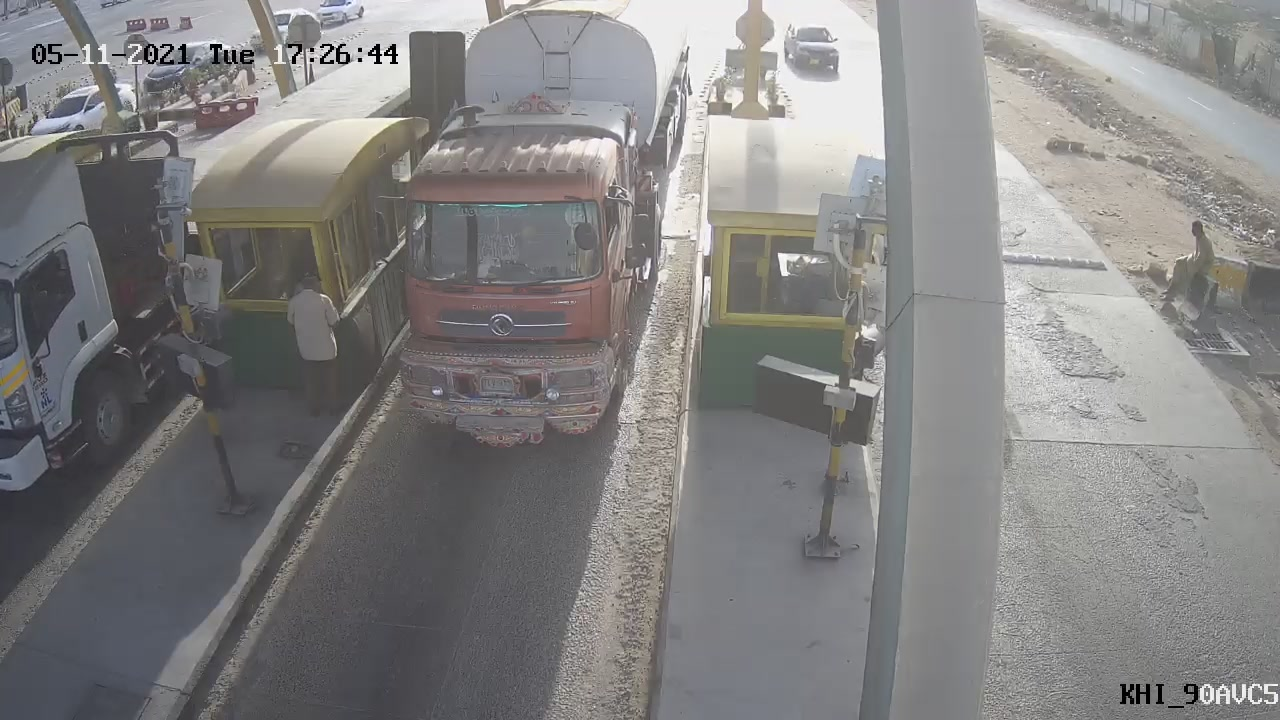F6: (353, 1, 703, 473)
